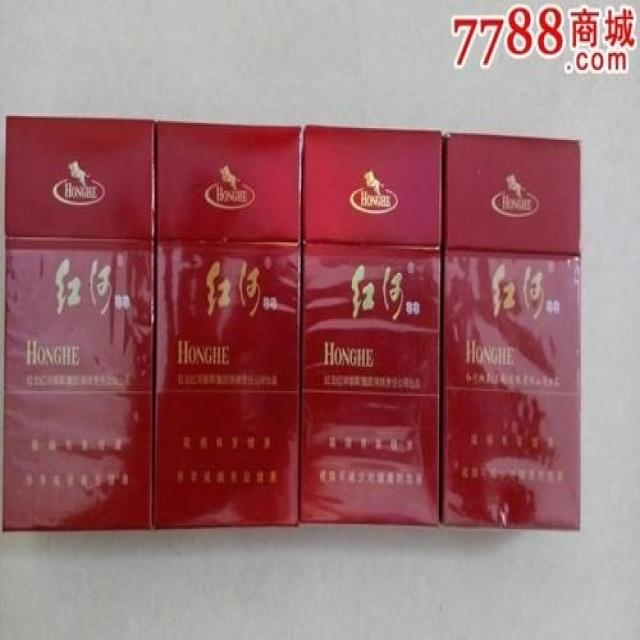box: (152, 121, 306, 529), (4, 116, 155, 532), (297, 126, 444, 527), (442, 135, 579, 529)
